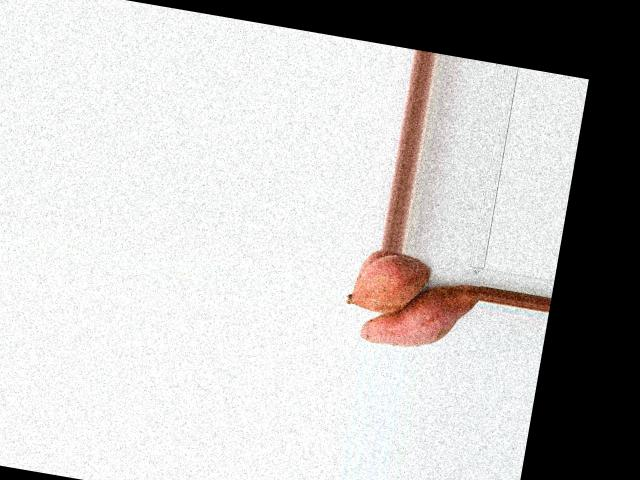sweet_potato: (345, 253, 427, 313)
